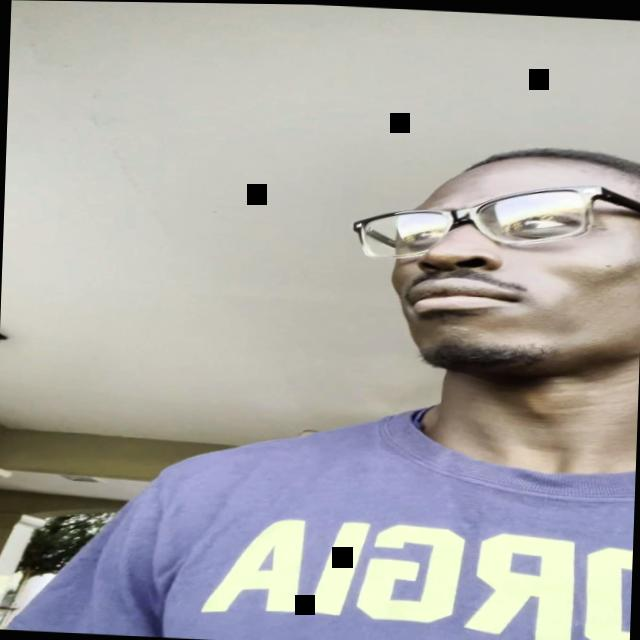NO-Mask: (369, 137, 640, 401)
